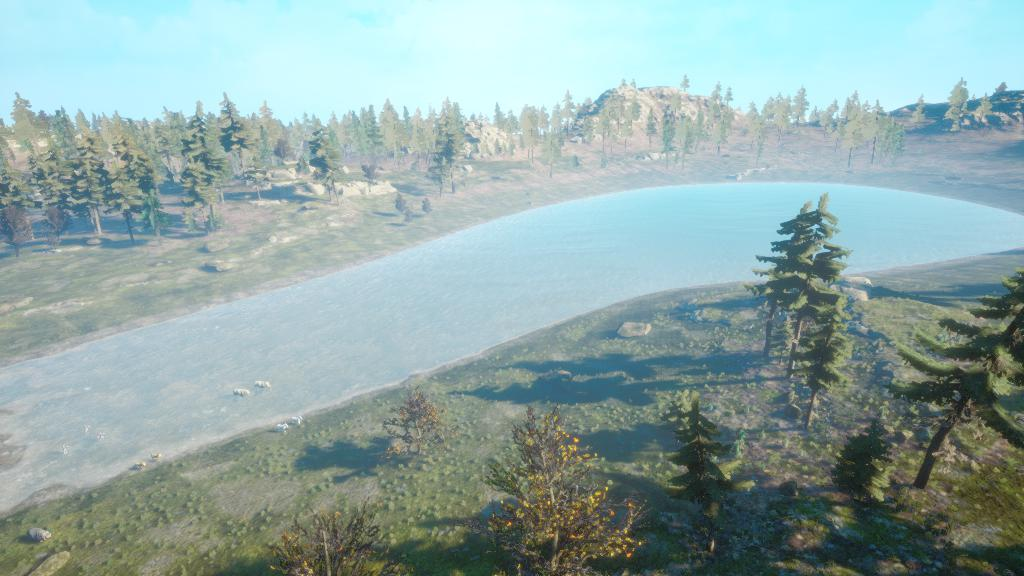hippopotamus: (19, 519, 65, 553)
rhinoceros: (229, 380, 256, 403), (249, 373, 278, 394)
zebra: (270, 416, 294, 436)
